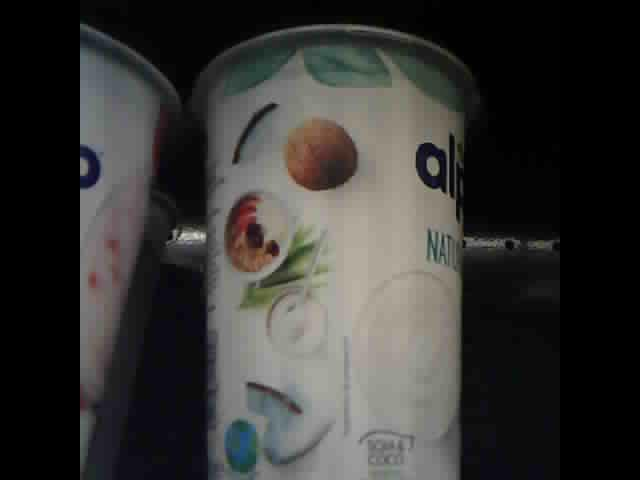alpro: (197, 25, 480, 480), (80, 17, 170, 480)
